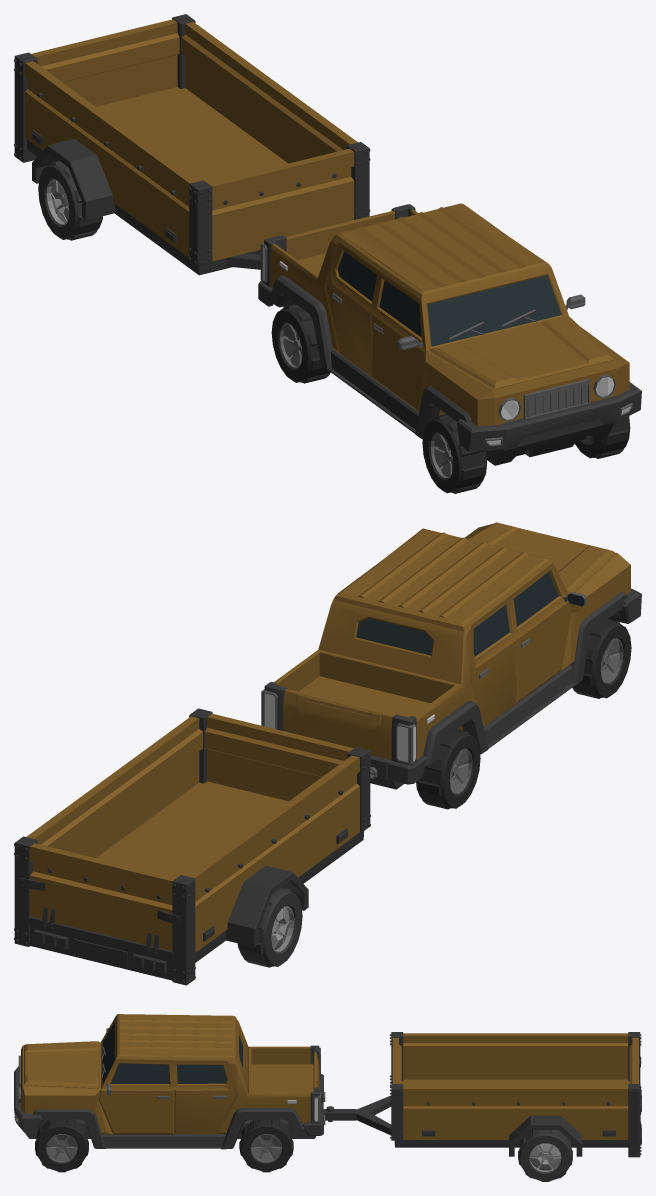
Rendered from car_02.glb.
The picture shows the model from 3 angles, top to bottom: view 1: azimuth 30°, elevation 25°; view 2: azimuth 150°, elevation 25°; view 3: azimuth 270°, elevation 25°; orthographic projection. The views are drawn at different scales.
Parts seen in each view (by area): view 1: car_02; view 2: car_02; view 3: car_02.
Part boxes in pixels (x1,y1,x2,y2): car_02: [14, 14, 641, 493]; car_02: [14, 522, 641, 985]; car_02: [14, 1014, 641, 1181].
Bounding box in the file's own units: 2.91 × 2.03 × 10.27.
Materials: 1 (1 with a texture image).
